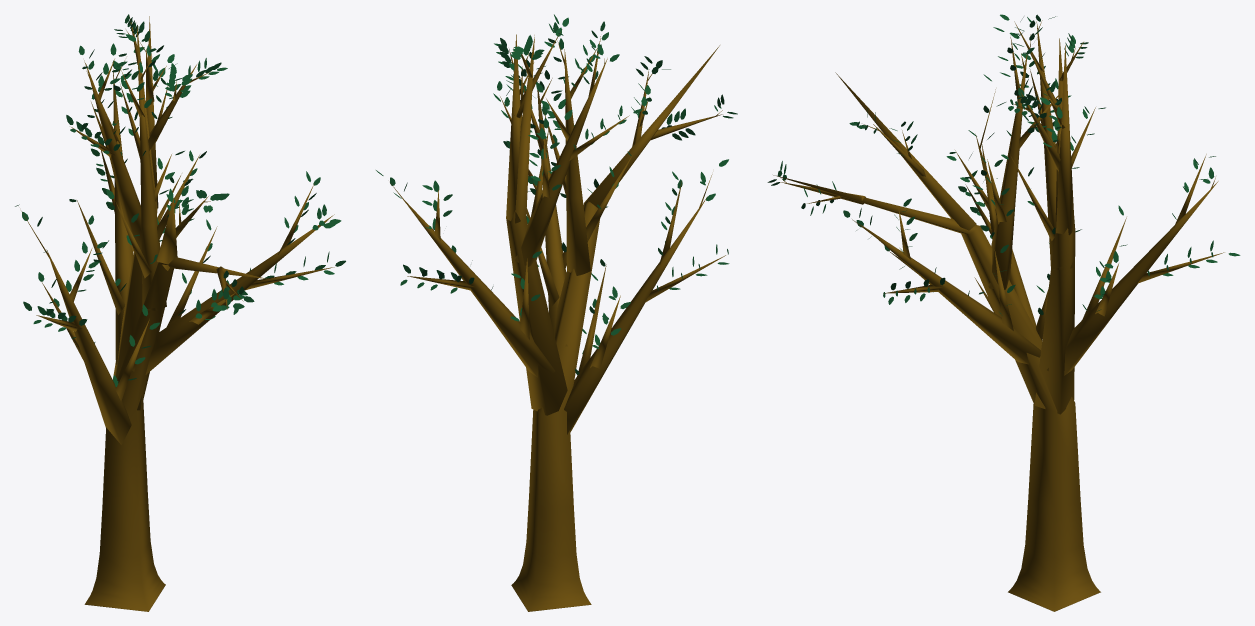
The model's file is tree2.obj.
3 views of the same model, side by side, from view 1: azimuth 30°, elevation 25°; view 2: azimuth 150°, elevation 25°; view 3: azimuth 270°, elevation 25° (orthographic).
Parts seen in each view (by area): view 1: tree2.001_stems, tree2_leaves; view 2: tree2.001_stems, tree2_leaves; view 3: tree2.001_stems, tree2_leaves.
Part boxes in pixels (x1=…): tree2.001_stems: x1=21, y1=16, x2=334, y2=611; tree2_leaves: x1=15, y1=14, x2=345, y2=386; tree2.001_stems: x1=390, y1=29, x2=725, y2=611; tree2_leaves: x1=376, y1=14, x2=737, y2=374; tree2.001_stems: x1=773, y1=20, x2=1224, y2=611; tree2_leaves: x1=767, y1=14, x2=1240, y2=315.
Bounding box in the file's own units: 55.08 × 109 × 81.14.
